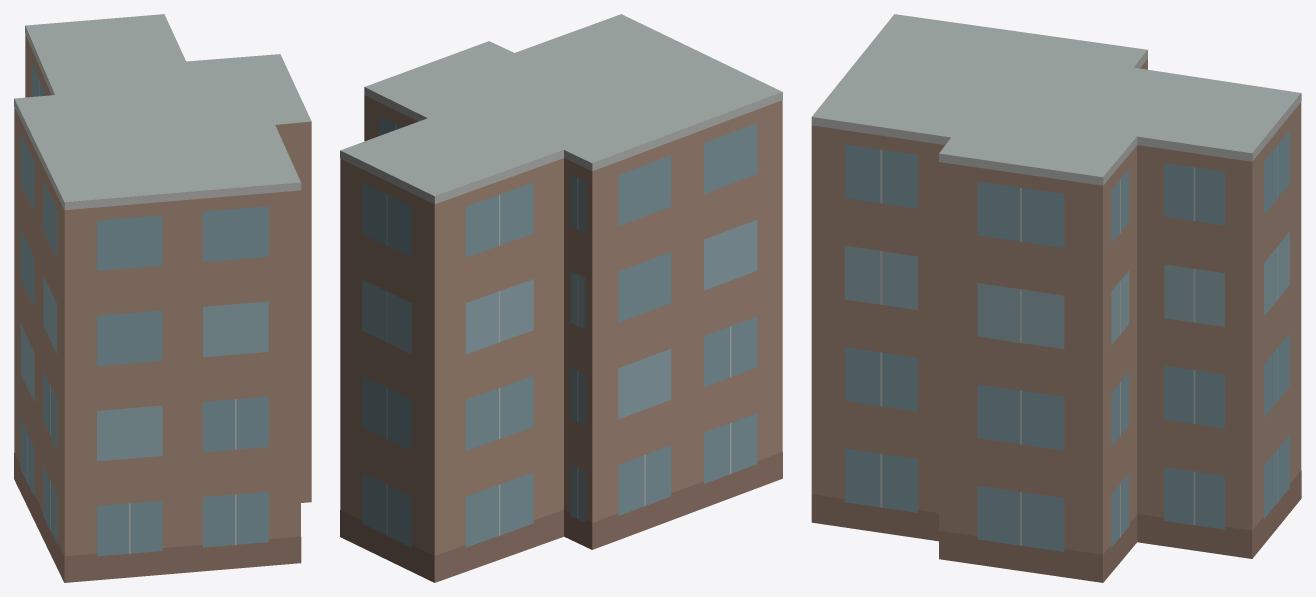
The model's file is survey-upis-32494352.glb.
3 views of the same model, side by side, from view 1: azimuth 30°, elevation 25°; view 2: azimuth 150°, elevation 25°; view 3: azimuth 270°, elevation 25° (orthographic). The views are drawn at different scales.
Parts seen in each view (by area): view 1: survey-upis-32494352.tmp; view 2: survey-upis-32494352.tmp; view 3: survey-upis-32494352.tmp.
Boxes of the visible parts, x1,y1,x2,y2 form: survey-upis-32494352.tmp: (14,14,311,582); survey-upis-32494352.tmp: (340,14,782,582); survey-upis-32494352.tmp: (811,14,1301,582).
Size of the model in its own units: 10.11 by 11.7 by 12.82.
